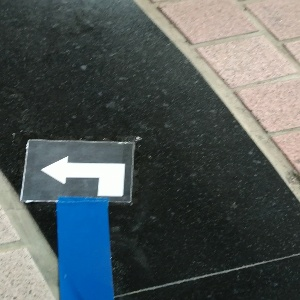left: (22, 139, 131, 200)
